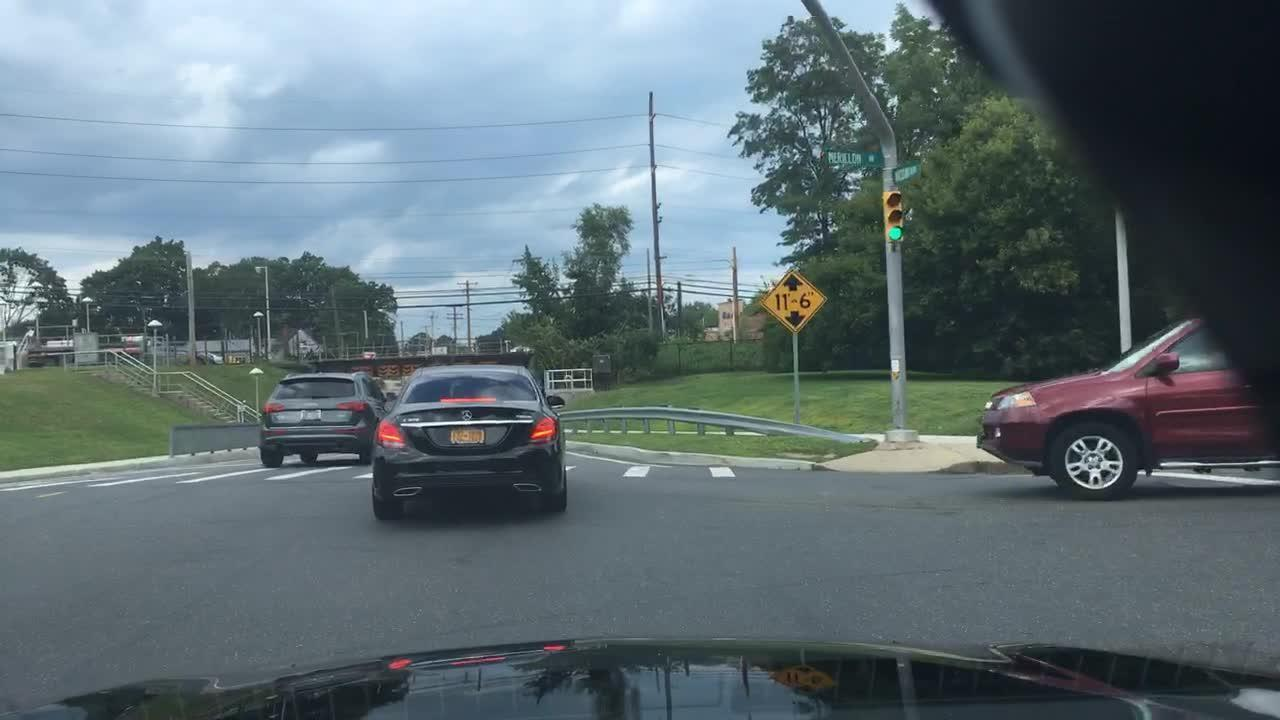Mercedes: (452, 406, 477, 428)
